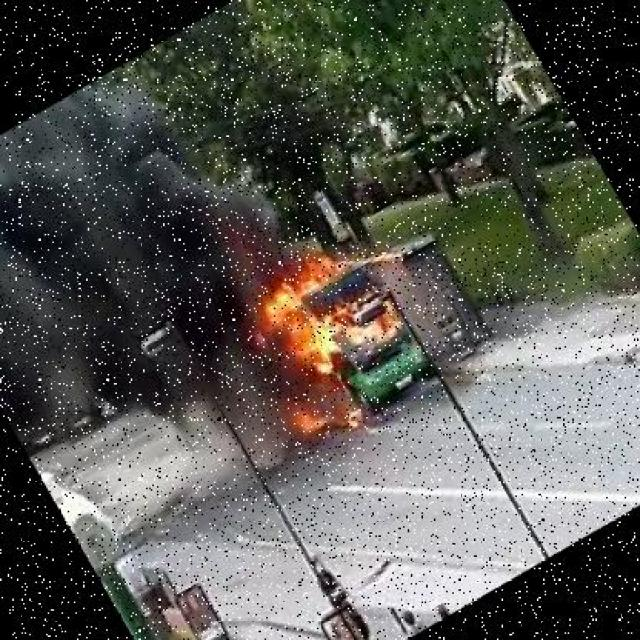fire: (200, 217, 443, 458)
